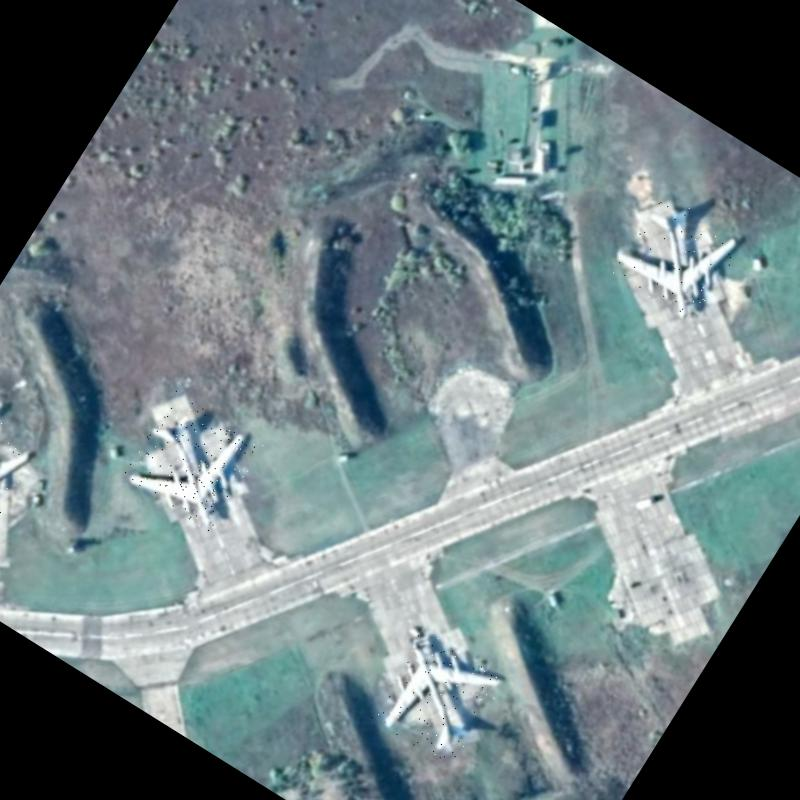A17: (121, 391, 264, 533), (366, 626, 507, 768), (604, 186, 744, 326), (0, 387, 41, 537)
